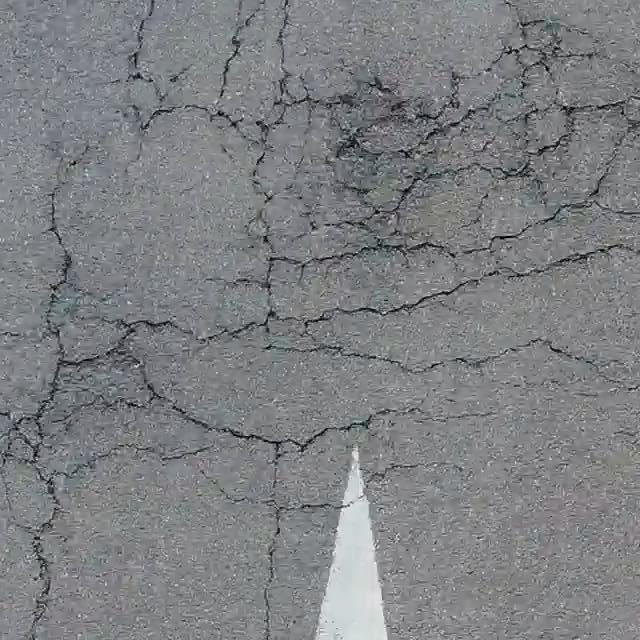GRIETA: (26, 541, 50, 639), (263, 517, 280, 639)
PIEL DE COCODRILO: (0, 0, 639, 541)
